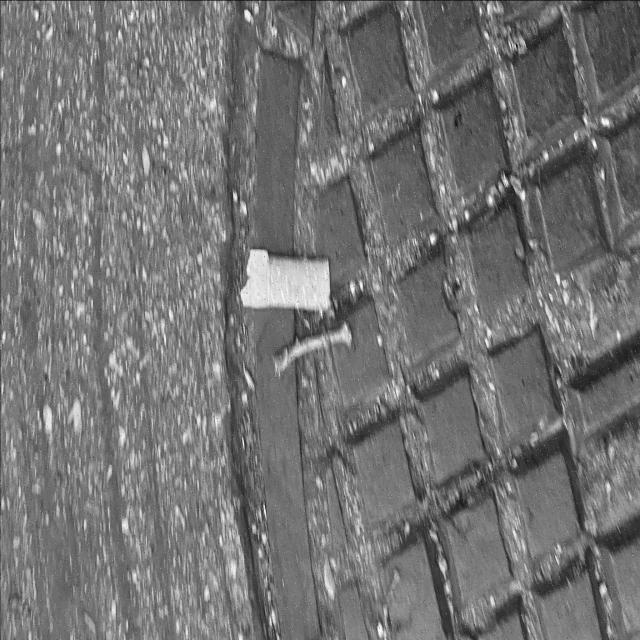other waste: (239, 247, 331, 312)
